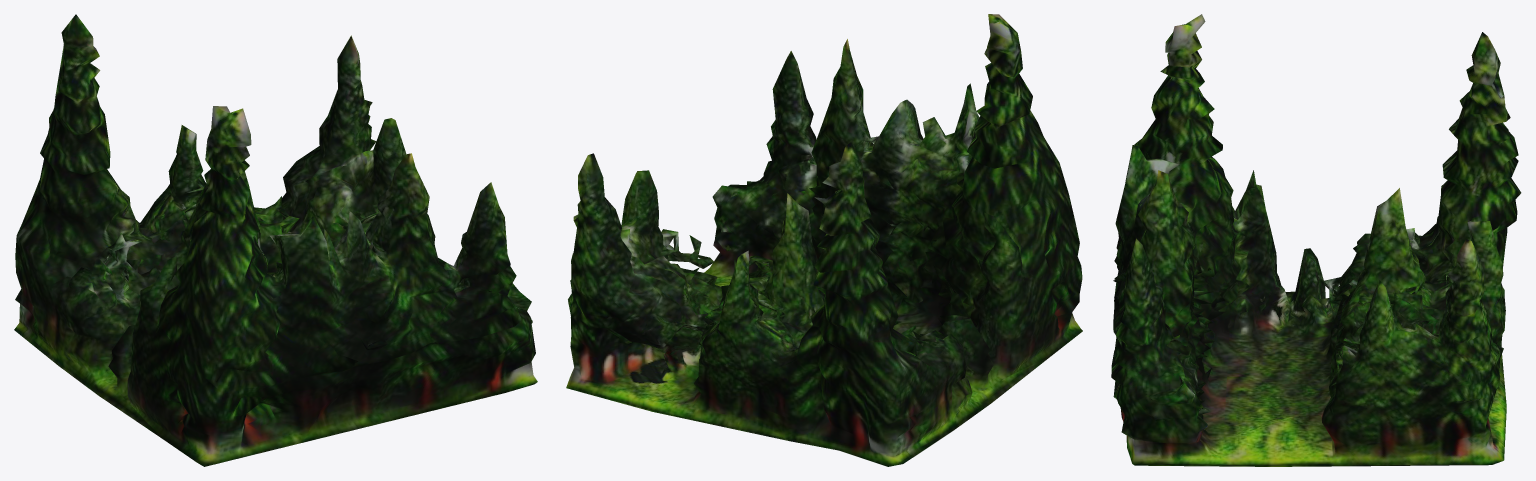
The model's file is forest.fbx.
3 renders of one model, left to right at view 1: azimuth 30°, elevation 25°; view 2: azimuth 150°, elevation 25°; view 3: azimuth 270°, elevation 25°, orthographic. The views are drawn at different scales.
Visible parts, largest first — view 1: mesh; view 2: mesh; view 3: mesh.
Part boxes in pixels (left/top/right/bottom): mesh: left=14, top=14, right=537, bottom=466; mesh: left=566, top=14, right=1082, bottom=466; mesh: left=1111, top=14, right=1521, bottom=466.
Size of the model in its own units: 97.04 by 85.18 by 100.
